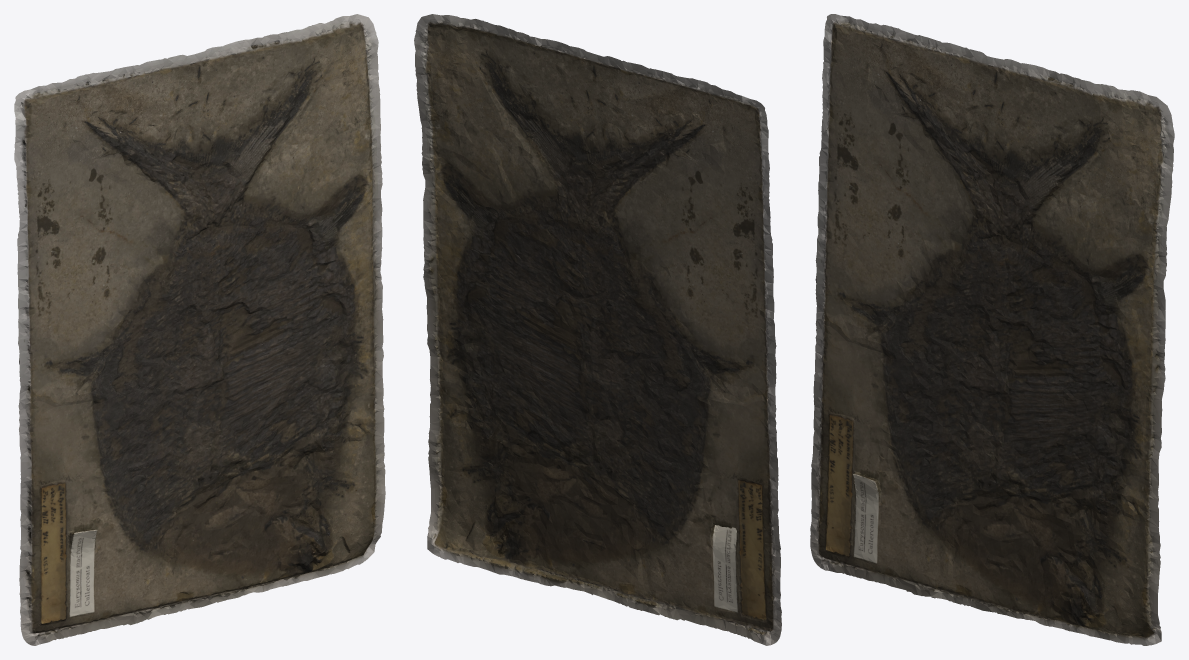
File: fish_fossil.dae
3 views of the same model, side by side, from view 1: azimuth 30°, elevation 25°; view 2: azimuth 150°, elevation 25°; view 3: azimuth 330°, elevation 25° (orthographic).
Visible parts, largest first — view 1: node; view 2: node; view 3: node.
Boxes of the visible parts, x1,y1,x2,y2 form: node: [14, 14, 385, 645]; node: [414, 14, 781, 645]; node: [810, 14, 1174, 645].
Bounding box in the file's own units: 6.89 × 10.06 × 0.7389.
Materials: 1 (1 with a texture image).
